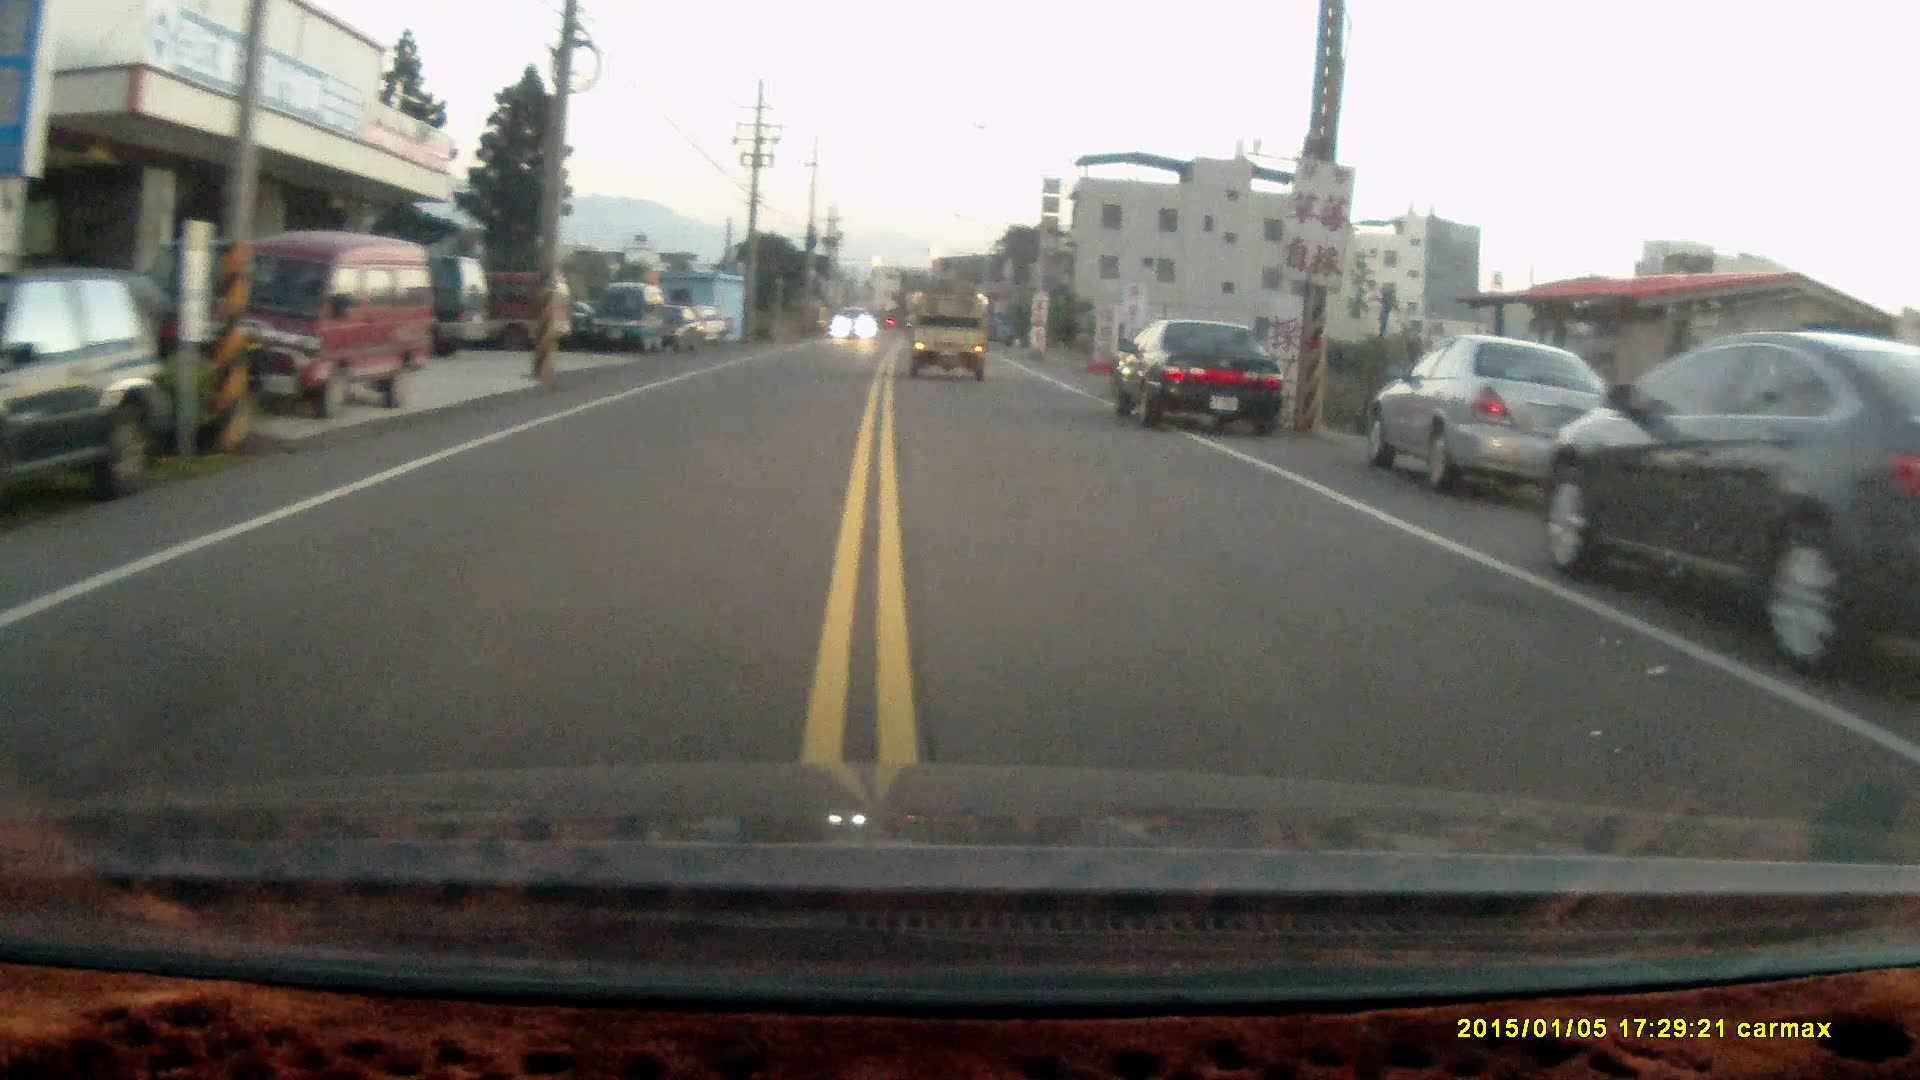vehicle: (1540, 335, 1920, 682), (187, 235, 433, 415), (1, 272, 171, 531), (1371, 336, 1636, 496), (1106, 314, 1284, 440), (290, 247, 496, 356), (407, 268, 572, 349), (914, 294, 997, 384), (591, 286, 667, 356)
